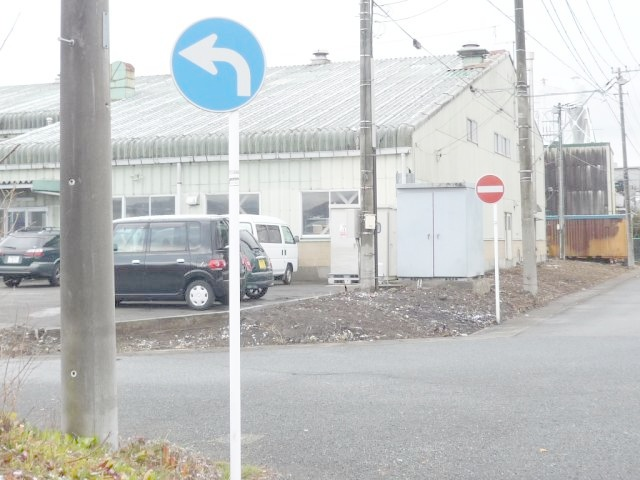Direction_sign: (169, 15, 273, 123)
